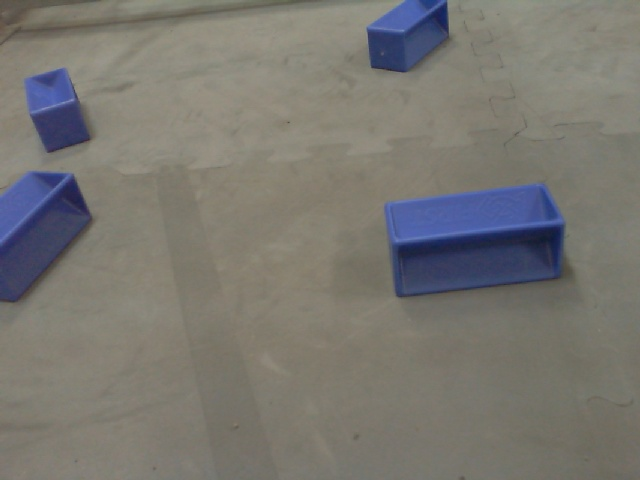BlueSample: (374, 181, 570, 303), (1, 165, 96, 306), (16, 65, 97, 157), (363, 1, 450, 81)
